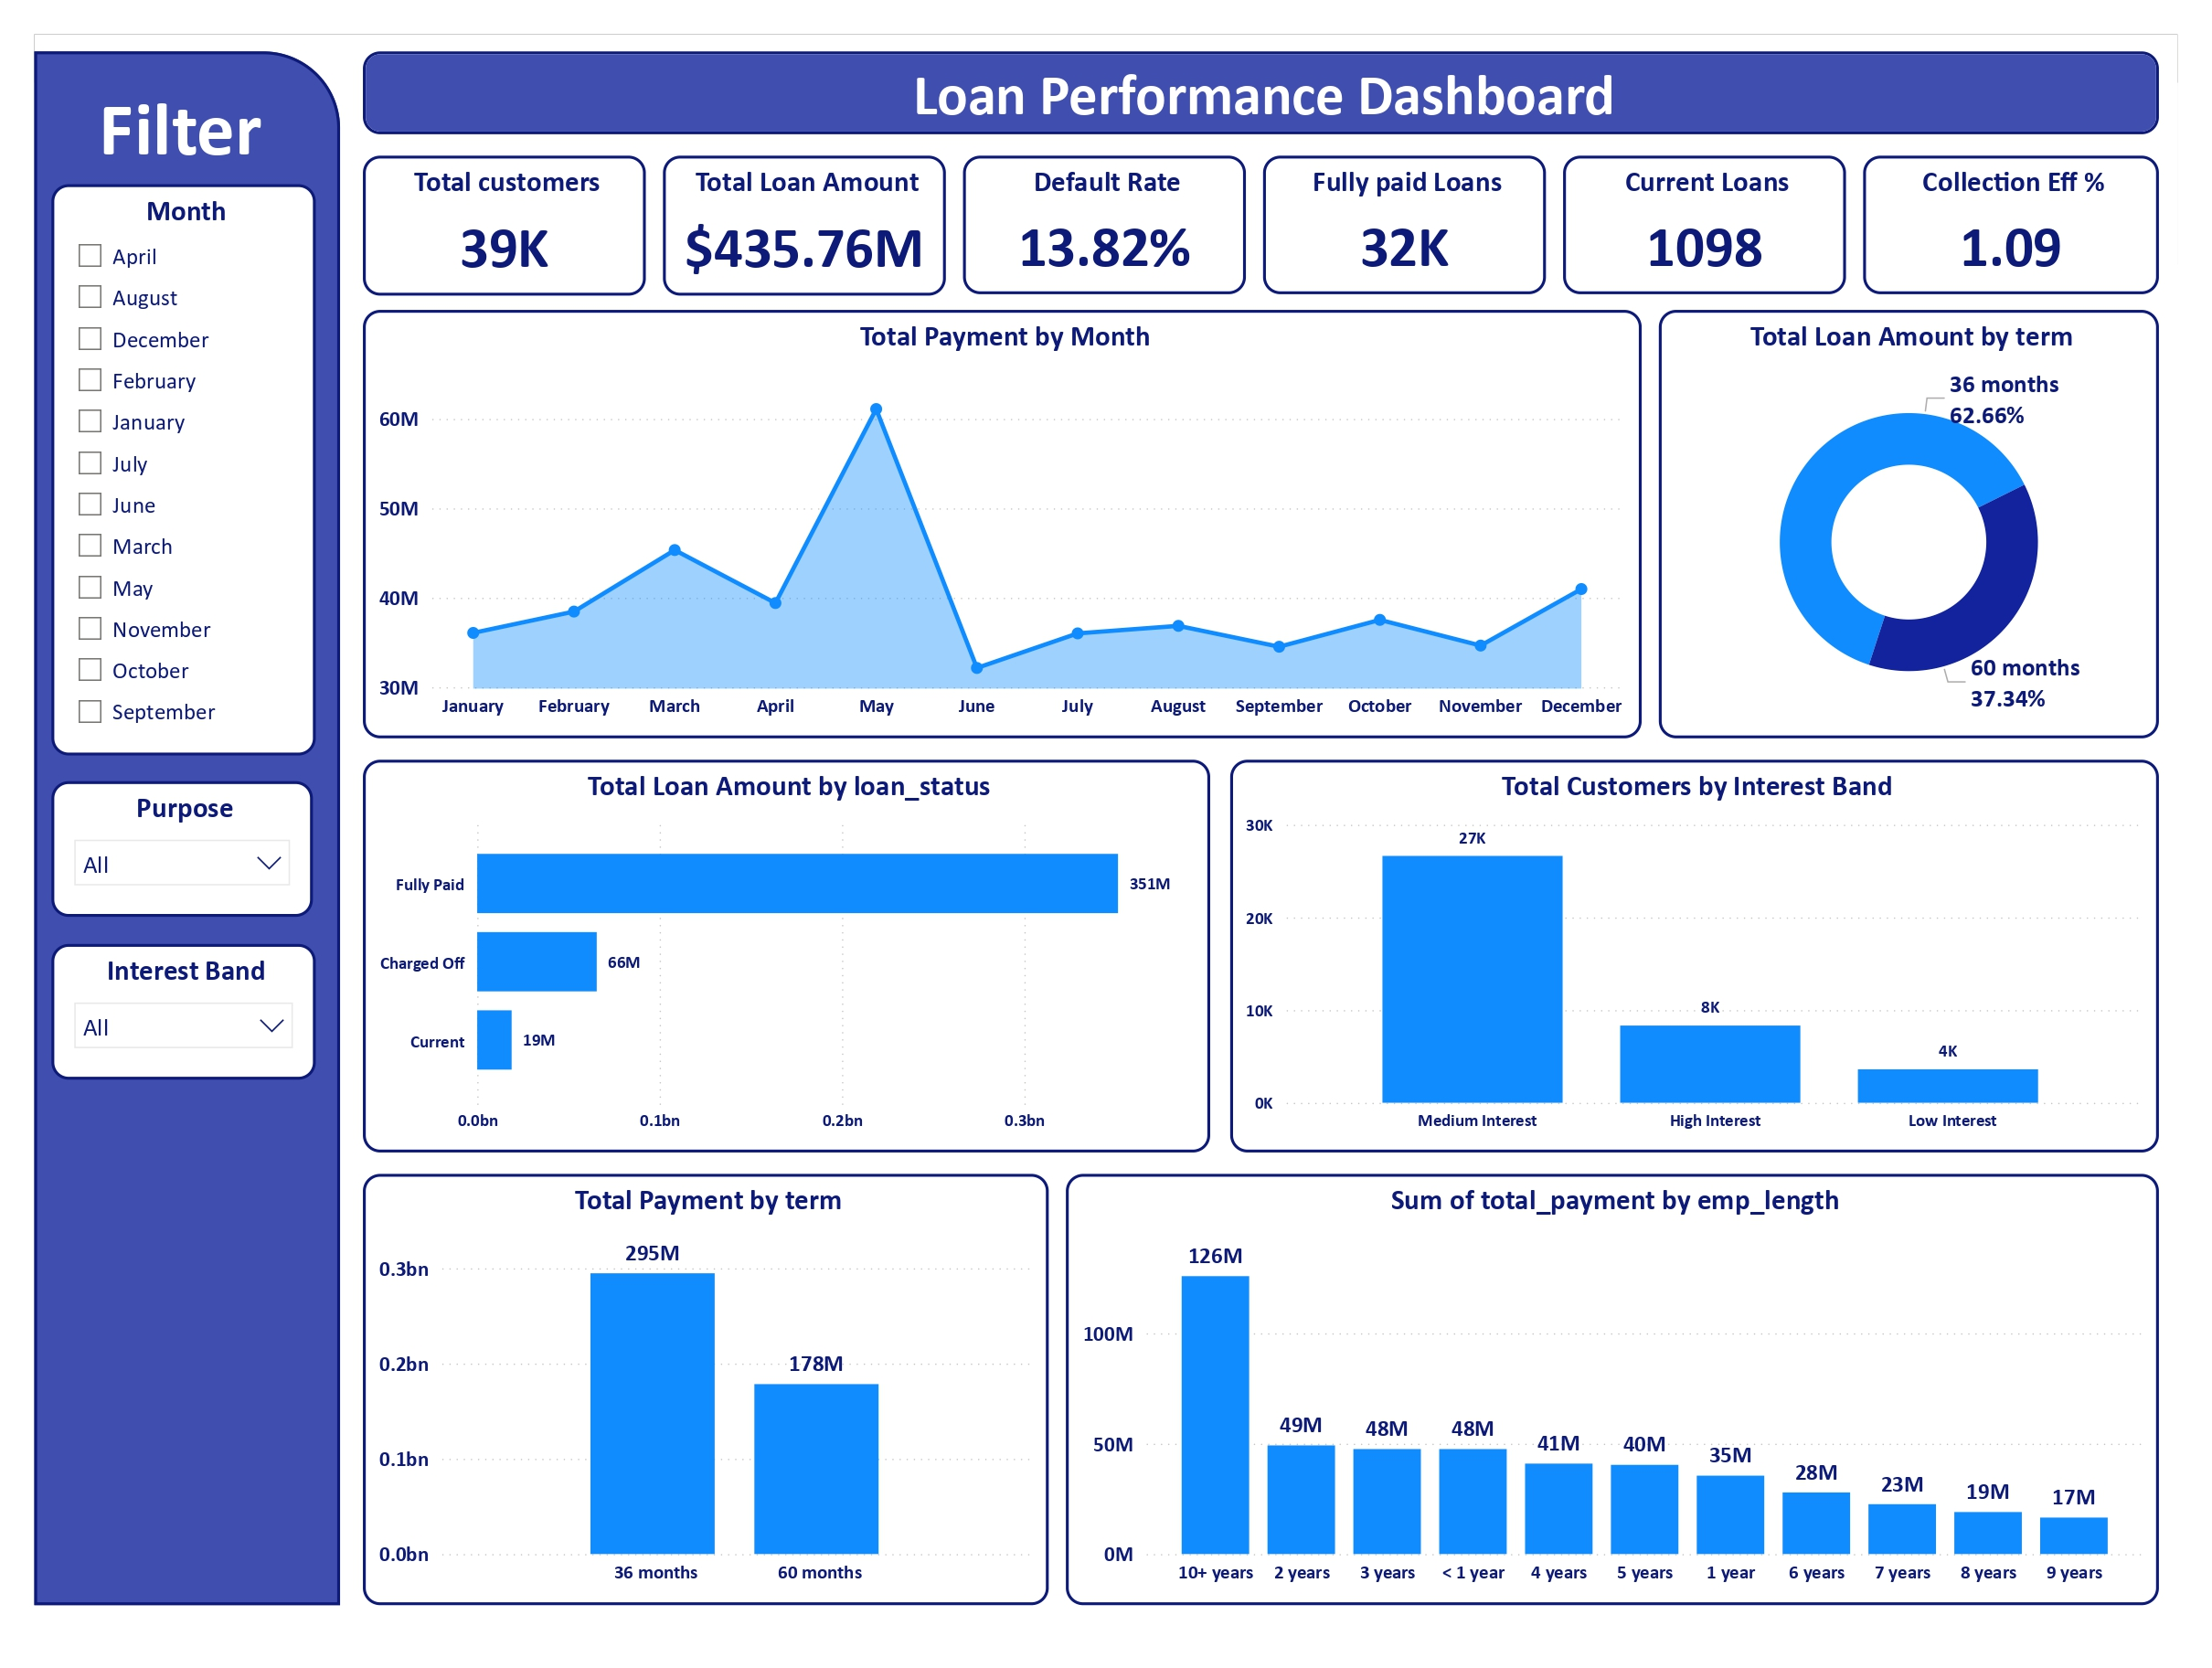

The dashboard page shown, as its layout file describes it:
{"tool":"powerbi","page":{"name":"Repayment Insights","canvas":[1500,1120],"ordinal":2},"visuals":[{"type":"card","title":"Total customers","fields":{"Values":["loan.Total Customers"]},"box":[230,85,198.3,98.3],"z":0},{"type":"card","title":"Collection Eff %","fields":{"Values":["loan.Upcoming Payments"]},"box":[1280,85,207,97],"z":1000},{"type":"card","title":"Current Loans","fields":{"Values":["loan.Current Loans"]},"box":[1070,85,198.3,96.7],"z":2000},{"type":"card","title":"Fully paid Loans","fields":{"Values":["loan.Fully Paid Loans"]},"box":[860,85,198.3,96.7],"z":3000},{"type":"card","title":"Default Rate","fields":{"Values":["loan.Default Rate"]},"box":[650,85,198.3,96.7],"z":4000},{"type":"lineChart","fields":{"Y":["loan.Total Payment"],"Category":["loan.last_payment_date.Variation.Date Hierarchy.Month"]},"box":[230,193.3,895,300],"z":5000},{"type":"donutChart","fields":{"Category":["loan.term"],"Y":["loan.Total Loan Amount"]},"box":[1137,193,350,300],"z":6000},{"type":"columnChart","fields":{"Category":["loan.Interest Band"],"Y":["loan.Total Customers"]},"box":[837,508,650,275],"z":7000},{"type":"columnChart","fields":{"Category":["loan.emp_length"],"Y":["Sum(loan.total_payment)"]},"box":[722,798,765,302],"z":8000},{"type":"columnChart","fields":{"Category":["loan.term"],"Y":["loan.Total Payment"]},"box":[230,798.3,480,301.7],"z":9000},{"type":"barChart","fields":{"Y":["loan.Total Loan Amount"],"Category":["loan.loan_status"]},"box":[230,508.3,593.3,275],"z":10000},{"type":"shape","box":[0,12,214,1088],"z":12000},{"type":"textbox","title":"Loan Performance Dashboard","box":[230,11.7,1256.7,58.3],"z":13000},{"type":"textbox","box":[12,28,181,77],"z":14000},{"type":"slicer","title":"Month","fields":{"Values":["loan.Month"]},"box":[11.7,105,185,400],"z":15000},{"type":"slicer","title":"Purpose","fields":{"Values":["loan.purpose"]},"box":[11.7,523.3,183.3,95],"z":16000},{"type":"slicer","title":"Interest Band","fields":{"Values":["loan.Interest Band"]},"box":[11.7,636.7,185,95],"z":17000},{"type":"card","title":"Total Loan Amount","fields":{"Values":["loan.Total Loan Amount"]},"box":[440,85,198.3,98.3],"z":18000}]}

Visuals, with their boxes on the page's 1500x1120 design canvas (x1, y1, x2, y2). These are canvas units, not pixel positions in the 2212x1668 screenshot, which may show the page scaled, cropped or inside an application window:
"Total customers" card: {"x1": 230, "y1": 85, "x2": 428, "y2": 183}
"Collection Eff %" card: {"x1": 1280, "y1": 85, "x2": 1487, "y2": 182}
"Current Loans" card: {"x1": 1070, "y1": 85, "x2": 1268, "y2": 182}
"Fully paid Loans" card: {"x1": 860, "y1": 85, "x2": 1058, "y2": 182}
"Default Rate" card: {"x1": 650, "y1": 85, "x2": 848, "y2": 182}
lineChart - loan.Total Payment x loan.last_payment_date.Variation.Date Hierarchy.Month: {"x1": 230, "y1": 193, "x2": 1125, "y2": 493}
donutChart - loan.term x loan.Total Loan Amount: {"x1": 1137, "y1": 193, "x2": 1487, "y2": 493}
columnChart - loan.Interest Band x loan.Total Customers: {"x1": 837, "y1": 508, "x2": 1487, "y2": 783}
columnChart - loan.emp_length x Sum(loan.total_payment): {"x1": 722, "y1": 798, "x2": 1487, "y2": 1100}
columnChart - loan.term x loan.Total Payment: {"x1": 230, "y1": 798, "x2": 710, "y2": 1100}
barChart - loan.Total Loan Amount x loan.loan_status: {"x1": 230, "y1": 508, "x2": 823, "y2": 783}
shape: {"x1": 0, "y1": 12, "x2": 214, "y2": 1100}
"Loan Performance Dashboard" textbox: {"x1": 230, "y1": 12, "x2": 1487, "y2": 70}
textbox: {"x1": 12, "y1": 28, "x2": 193, "y2": 105}
"Month" slicer: {"x1": 12, "y1": 105, "x2": 197, "y2": 505}
"Purpose" slicer: {"x1": 12, "y1": 523, "x2": 195, "y2": 618}
"Interest Band" slicer: {"x1": 12, "y1": 637, "x2": 197, "y2": 732}
"Total Loan Amount" card: {"x1": 440, "y1": 85, "x2": 638, "y2": 183}
